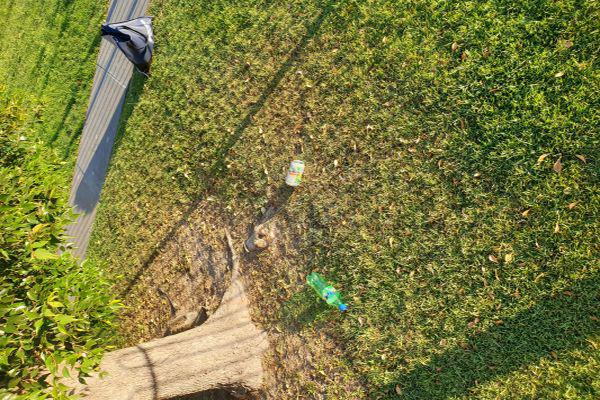Plastic Bottle: (305, 271, 349, 313), (284, 160, 306, 187)
